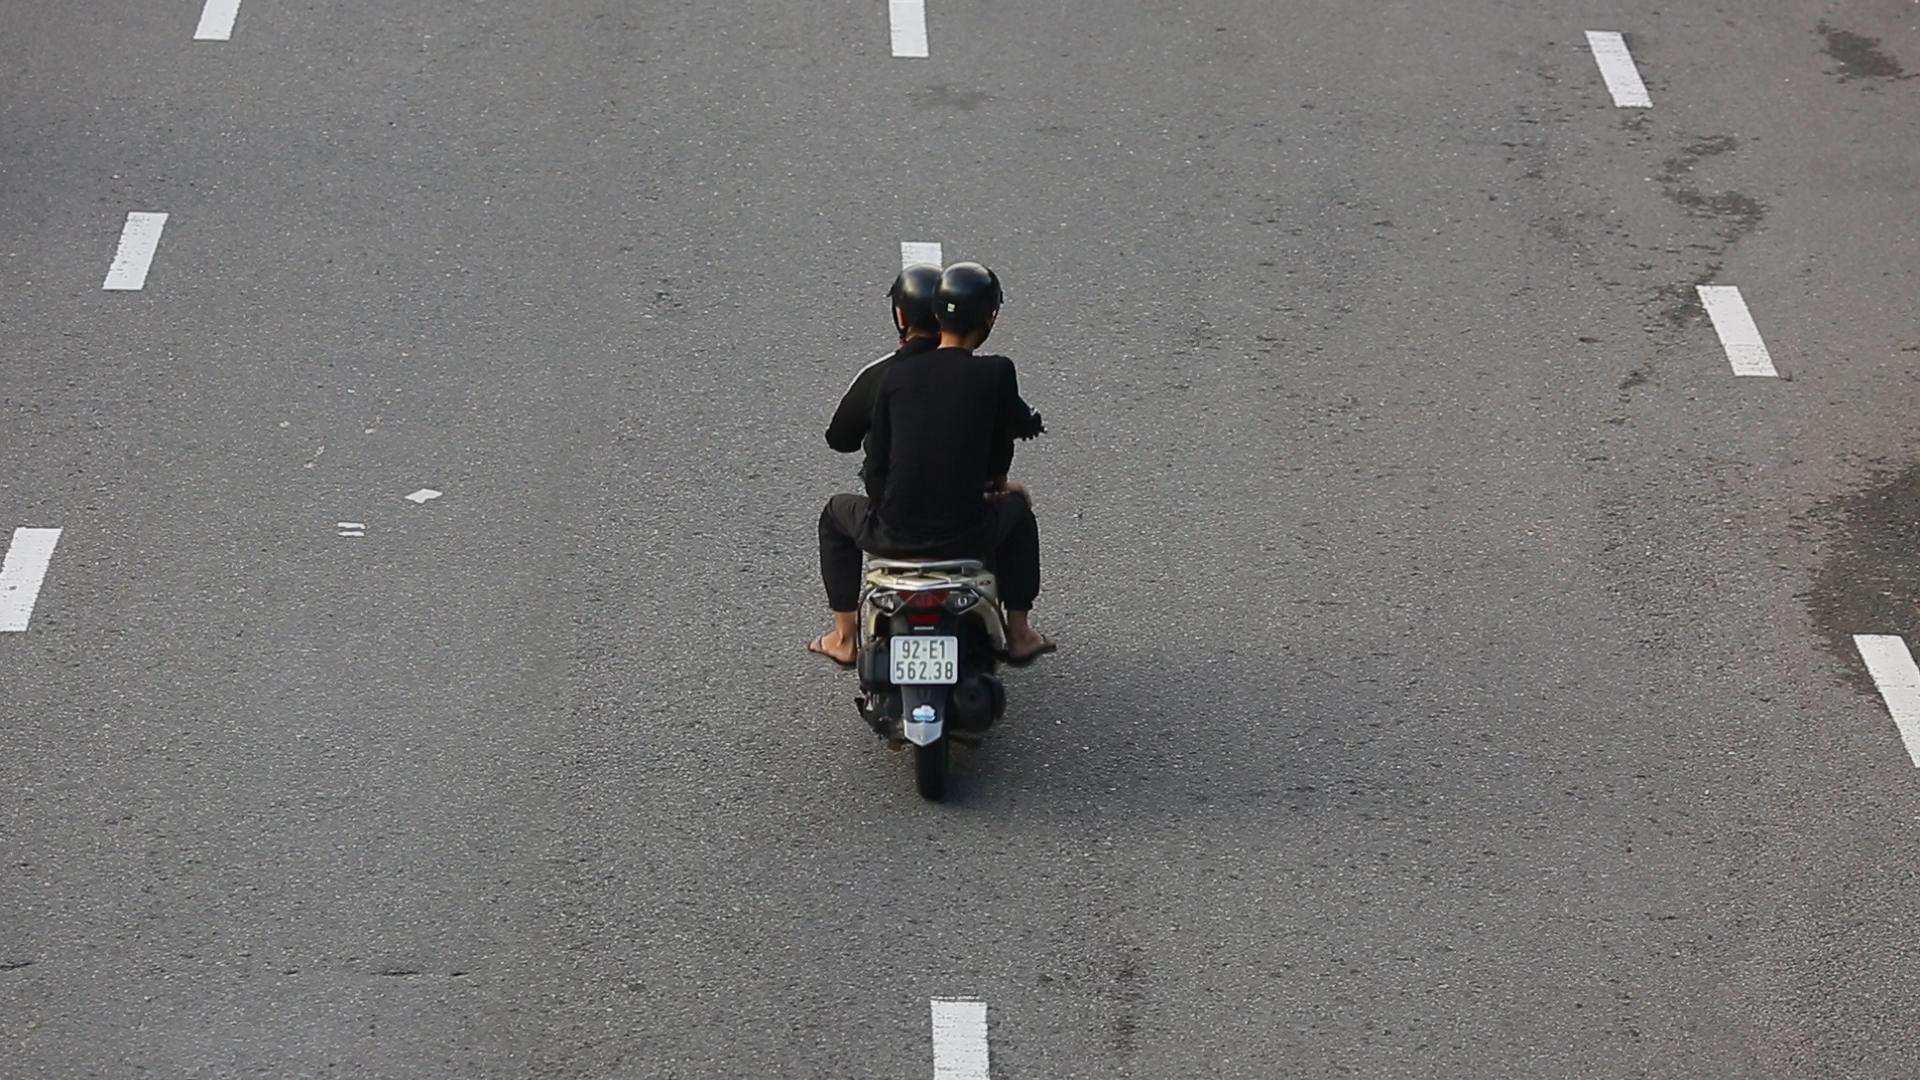motobike: (804, 261, 1071, 816)
